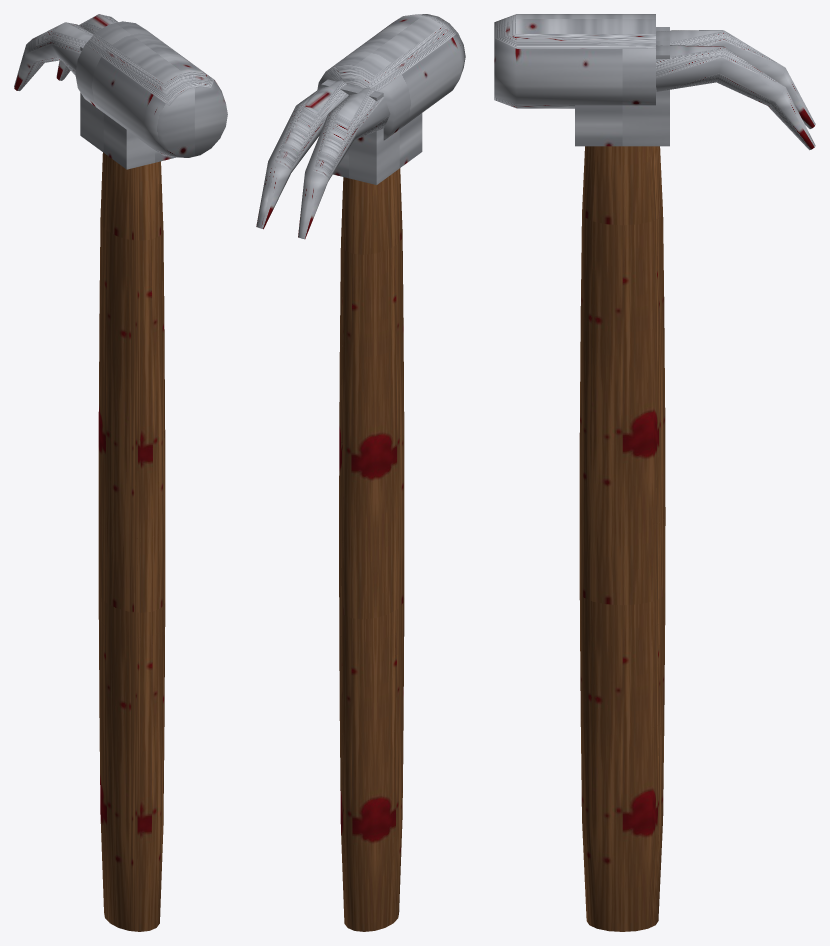
File: 金槌_hammer.glb
3 renders of one model, left to right at view 1: azimuth 30°, elevation 25°; view 2: azimuth 150°, elevation 25°; view 3: azimuth 270°, elevation 25°, orthographic. The views are drawn at different scales.
Parts seen in each view (by area): view 1: hammer; view 2: hammer; view 3: hammer.
Boxes of the visible parts, <box> form: hammer: <box>14,14,227,931</box>; hammer: <box>256,14,465,931</box>; hammer: <box>494,14,815,931</box>.
Bounding box in the file's own units: 0.034 × 0.3567 × 0.1153.
Materials: 2 (2 with a texture image).
